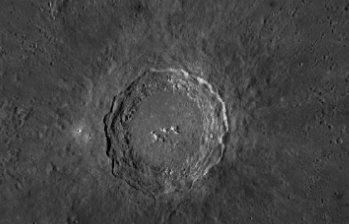crater: (60, 44, 280, 211)
